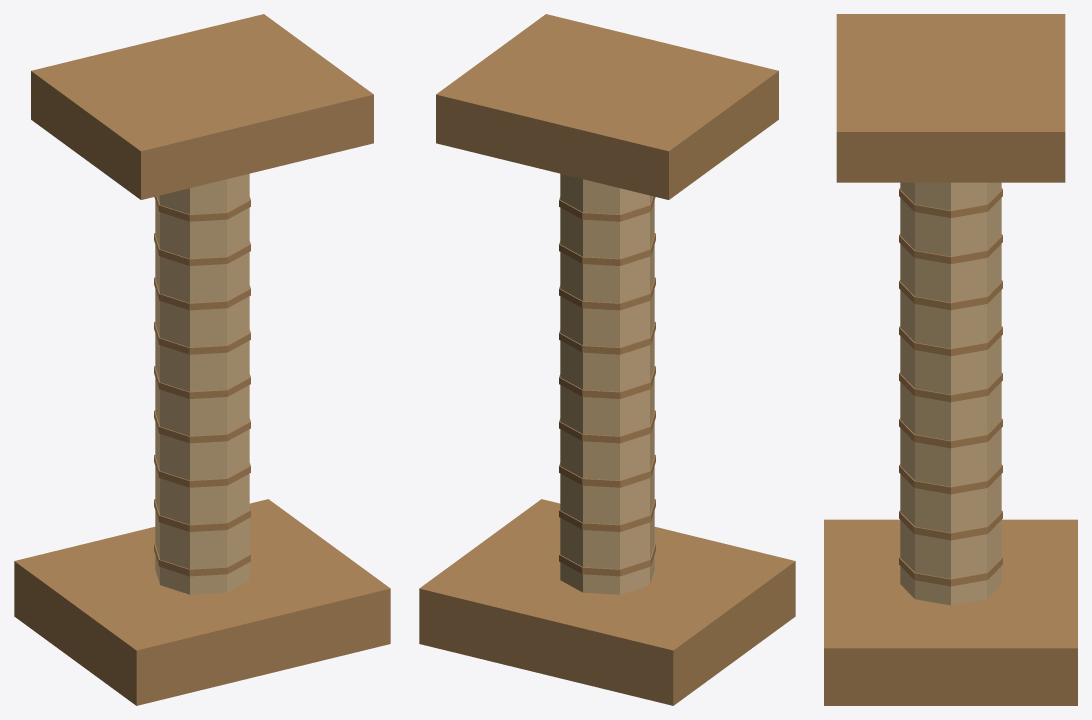
File: scratch_post.glb
The picture shows the model from 3 angles, left to right: view 1: azimuth 30°, elevation 25°; view 2: azimuth 150°, elevation 25°; view 3: azimuth 270°, elevation 25°; orthographic projection. The views are drawn at different scales.
Visible parts, largest first — view 1: scratch_post; view 2: scratch_post; view 3: scratch_post.
Part boxes in pixels (x1,y1,x2,y2): scratch_post: (14,14,390,705); scratch_post: (419,14,795,705); scratch_post: (824,14,1077,705).
Bounding box in the file's own units: 1.2 × 2.47 × 1.
